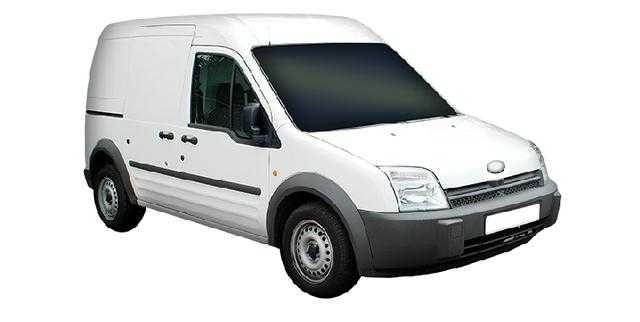car: (69, 1, 564, 303)
